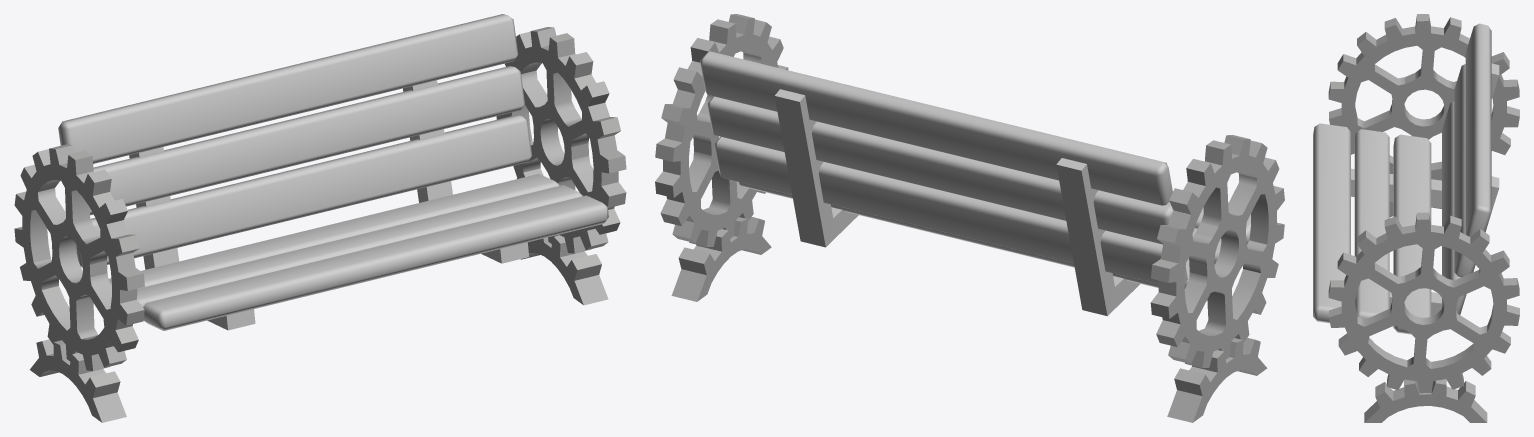
Rendered from bench_001.fbx.
The picture shows the model from 3 angles, left to right: view 1: azimuth 30°, elevation 25°; view 2: azimuth 150°, elevation 25°; view 3: azimuth 270°, elevation 25°; orthographic projection. The views are drawn at different scales.
Visible parts, largest first — view 1: bench_001; view 2: bench_001; view 3: bench_001.
Part boxes in pixels (x1,y1,x2,y2): bench_001: (14,14,626,422); bench_001: (655,14,1284,422); bench_001: (1313,14,1519,422).
Size of the model in its own units: 352 by 147 by 161.
